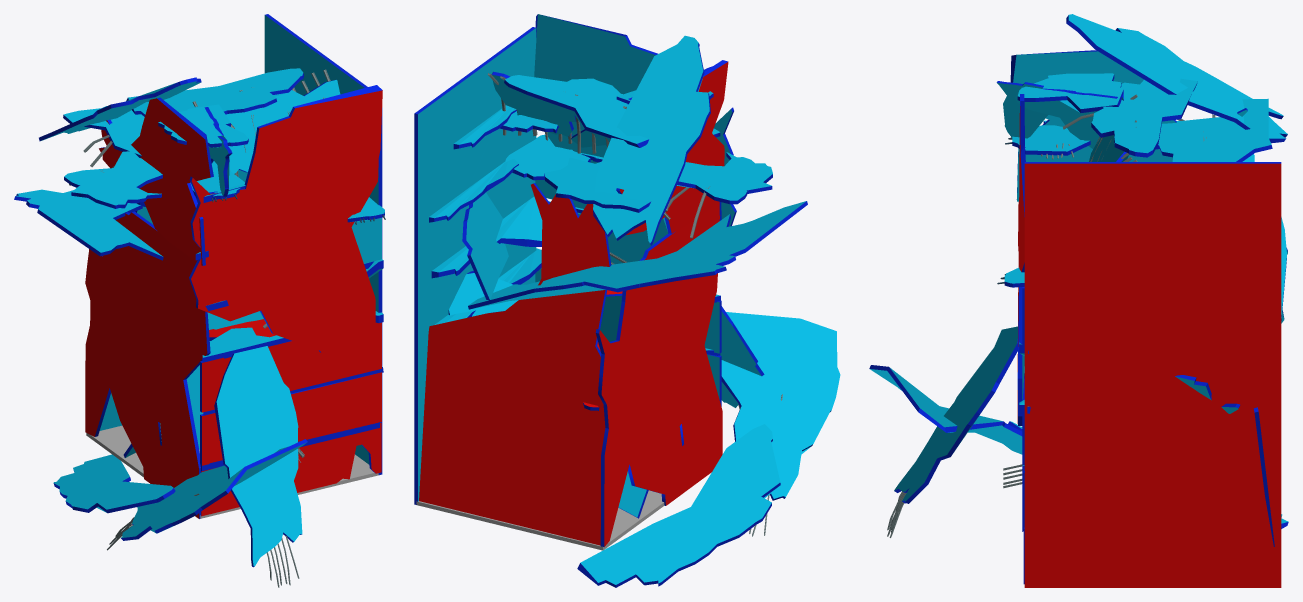
File: Texture_testing4.fbx
3 renders of one model, left to right at view 1: azimuth 30°, elevation 25°; view 2: azimuth 150°, elevation 25°; view 3: azimuth 270°, elevation 25°, orthographic. The views are drawn at different scales.
Parts seen in each view (by area): view 1: polySurface712, polySurface647, polySurface685, polySurface660, polySurface638, polySurface732, polySurface645, polySurface678, polySurface733, polySurface656, polySurface636, polySurface663 (+17 smaller); view 2: polySurface731, polySurface647, polySurface656, polySurface632, polySurface678, polySurface733, polySurface712, polySurface645, polySurface663, polySurface660, polySurface637, polySurface649 (+15 smaller); view 3: polySurface656, polySurface637, polySurface632, polySurface685, polySurface653, polySurface663, polySurface660, polySurface633, polySurface678, polySurface712, polySurface659, polySurface681 (+2 smaller).
Part boxes in pixels (x1,y1,x2,y2): polySurface712: (189,85,382,352); polySurface647: (85,211,210,518); polySurface685: (214,346,302,567); polySurface660: (99,97,213,265); polySurface638: (200,372,381,465); polySurface732: (200,322,381,412); polySurface645: (14,189,163,260); polySurface678: (121,439,307,540); polySurface733: (53,454,175,513); polySurface656: (264,14,382,286); polySurface636: (200,422,381,516); polySurface663: (126,68,303,116); polySurface731: (419,183,611,545); polySurface647: (595,202,722,546); polySurface656: (414,27,536,309); polySurface632: (593,35,710,245); polySurface678: (721,312,840,500); polySurface733: (577,424,780,587); polySurface712: (534,14,736,264); polySurface645: (468,201,807,309); polySurface663: (504,75,649,147); polySurface660: (616,60,728,235); polySurface637: (414,244,536,504); polySurface649: (677,152,772,204); polySurface656: (1024,162,1281,375); polySurface637: (1024,375,1281,587); polySurface632: (1066,14,1287,143); polySurface685: (894,326,1017,503); polySurface653: (1156,98,1272,161); polySurface663: (1091,78,1197,157); polySurface660: (1010,50,1247,201); polySurface633: (1017,73,1123,112); polySurface678: (869,365,1022,454); polySurface712: (1017,94,1025,425); polySurface659: (1015,82,1117,148); polySurface681: (1012,125,1090,155).
Bounding box in the file's own units: 4581 × 6912 × 5104.
